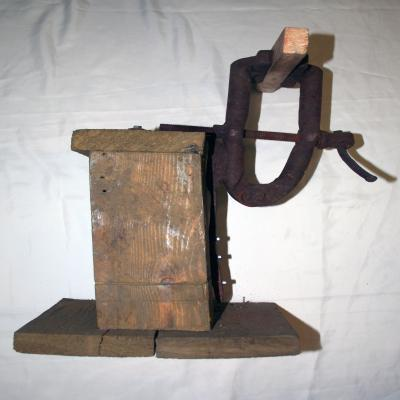technique: (13, 26, 383, 361)
